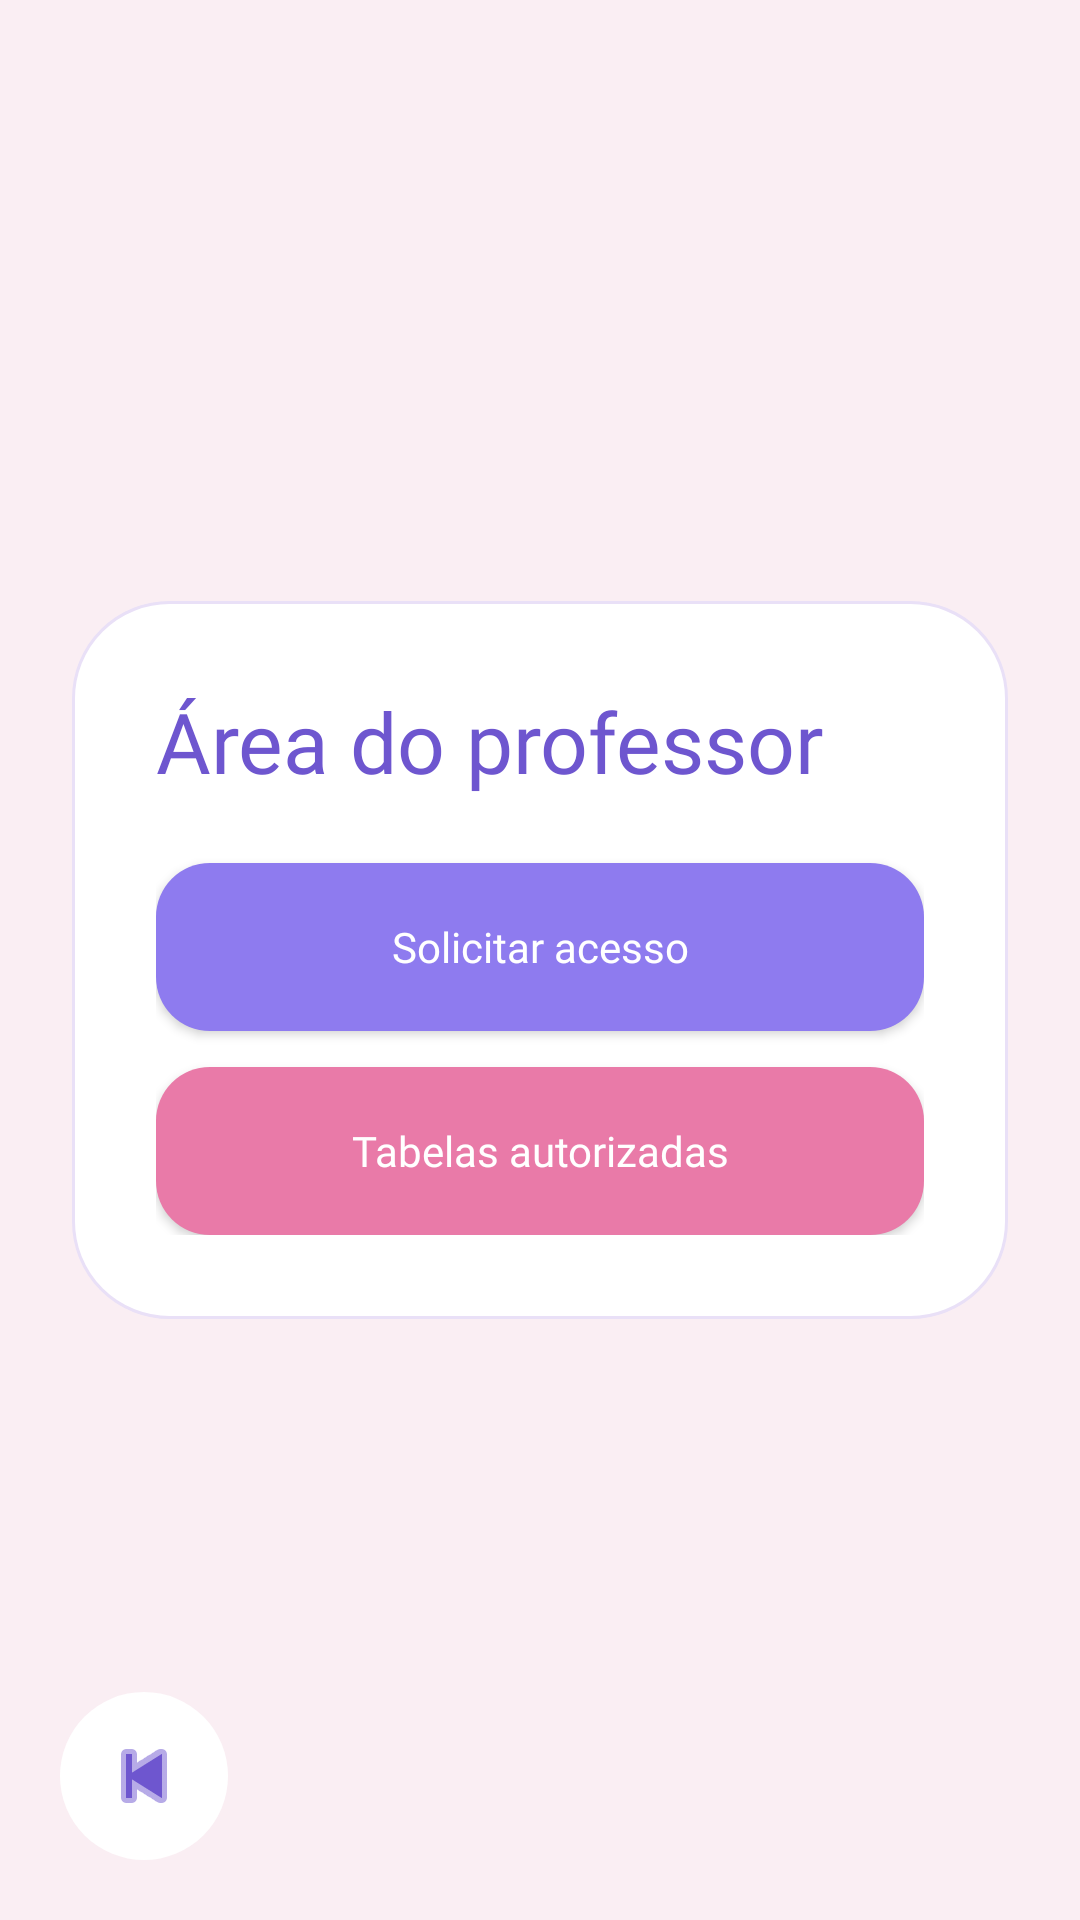

Named icons in this screenshot (1080*1920) and their bounding boxes, box(x1, y1, x2, y2):
previous: box(121, 1749, 167, 1803)
